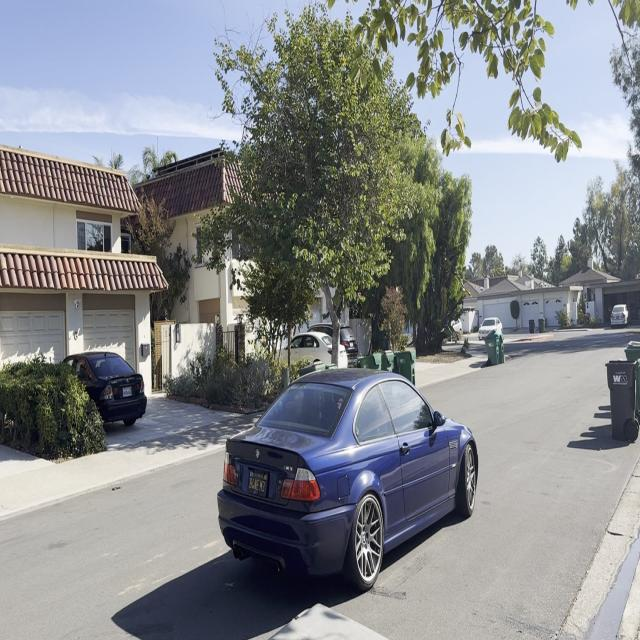Carbeetle: (210, 362, 483, 602)
Civilian: (48, 328, 153, 444), (272, 321, 363, 369), (473, 299, 504, 350), (610, 296, 628, 332)
